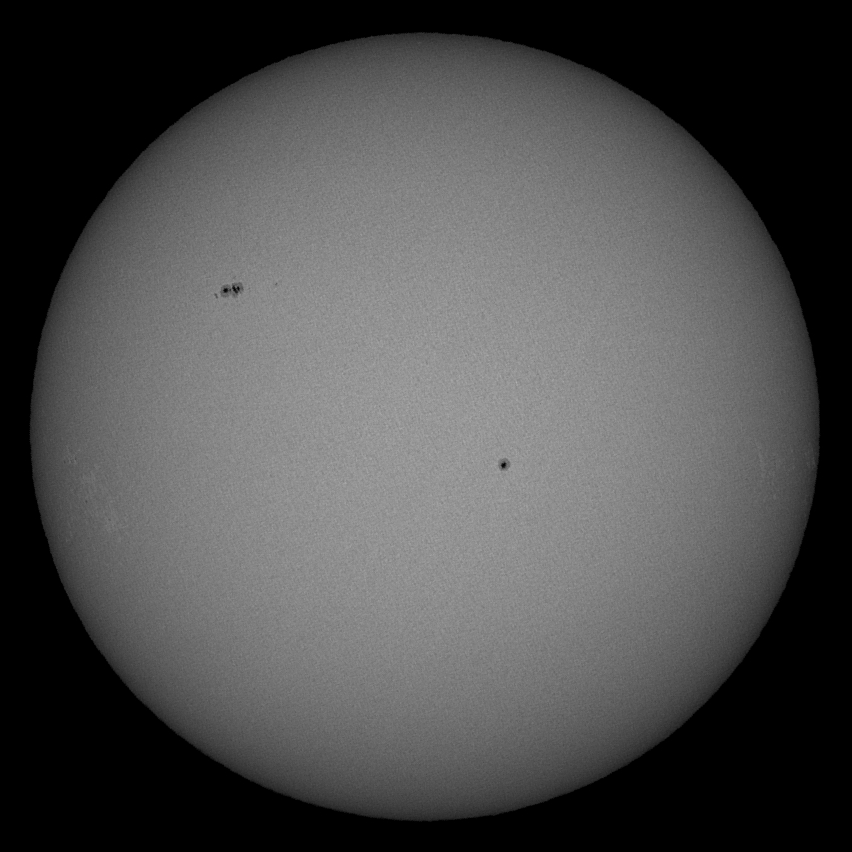sunspot: (212, 277, 248, 300), (495, 453, 515, 475)
